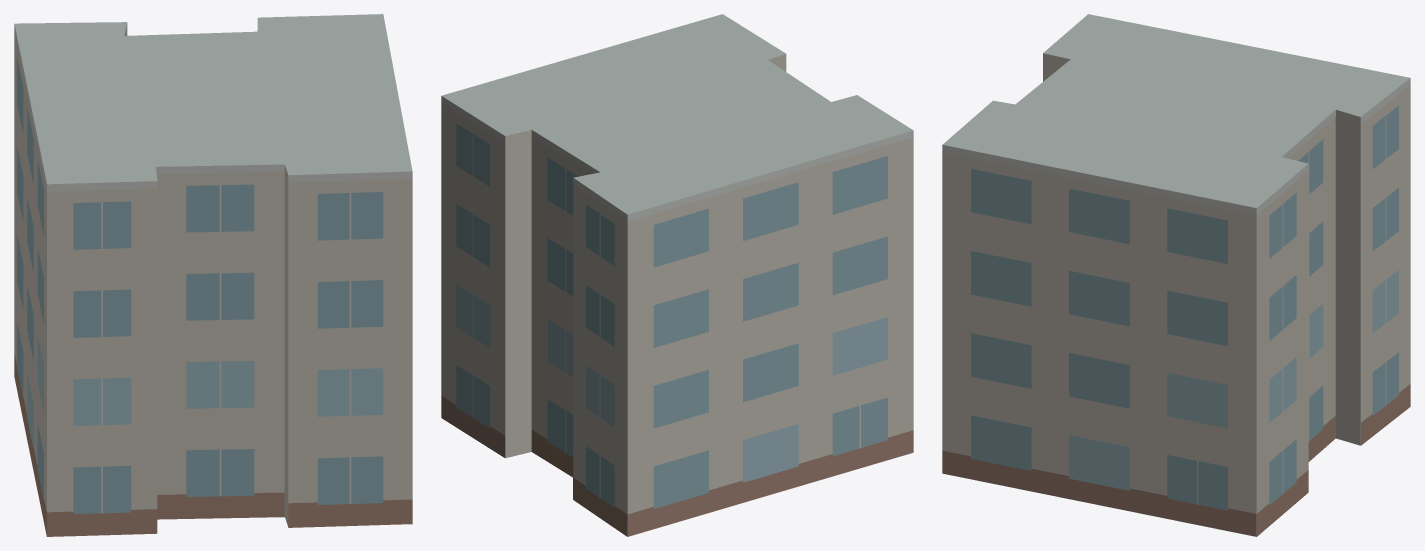
The model's file is survey-upis-32819172.glb.
3 views of the same model, side by side, from view 1: azimuth 30°, elevation 25°; view 2: azimuth 150°, elevation 25°; view 3: azimuth 270°, elevation 25° (orthographic). The views are drawn at different scales.
Visible parts, largest first — view 1: survey-upis-32819172.tmp; view 2: survey-upis-32819172.tmp; view 3: survey-upis-32819172.tmp.
Part boxes in pixels (<box>): survey-upis-32819172.tmp: <box>14,14,412,536</box>; survey-upis-32819172.tmp: <box>441,14,913,536</box>; survey-upis-32819172.tmp: <box>942,14,1410,536</box>.
Size of the model in its own units: 14.65 by 11.56 by 14.93.
